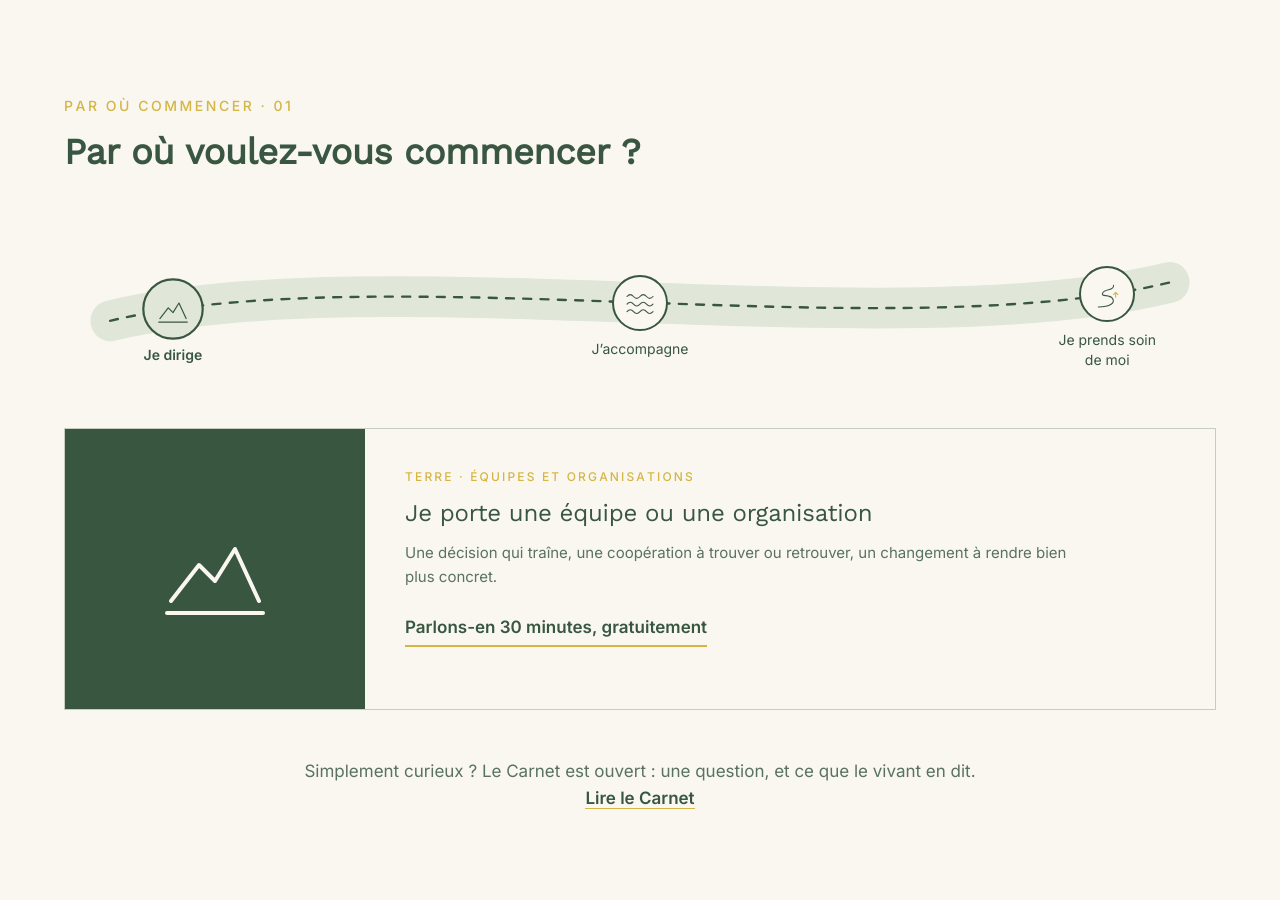
it: home three doors › starts on the earth door and switches doors via the station tabs
The width and height of the screenshot is (1280, 900).
What coordinates should you click on to do the following:
click the tab "J’accompagne"
I would click on:
 (640, 302)
Its box is [612,274,668,330].
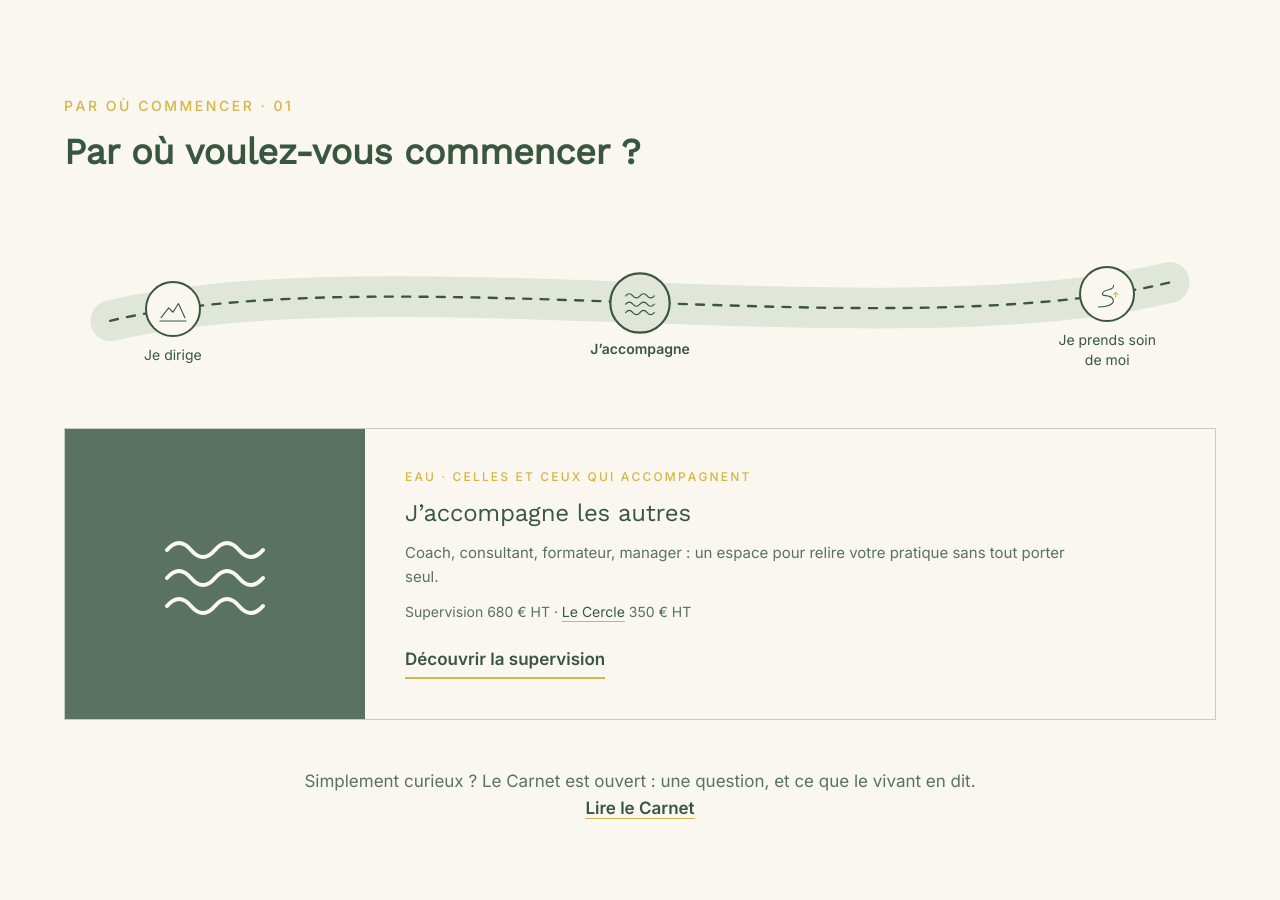
Now the tab "J’accompagne" is selected, box [612,274,668,330]
Now the link "Découvrir la supervision" has attribute href="/supervision", box [405,646,605,679]
What coordinates should you click on to do the following:
click the tab "Je prends soin de moi"
I would click on:
 (1107, 294)
Its box is [1079,266,1135,322].
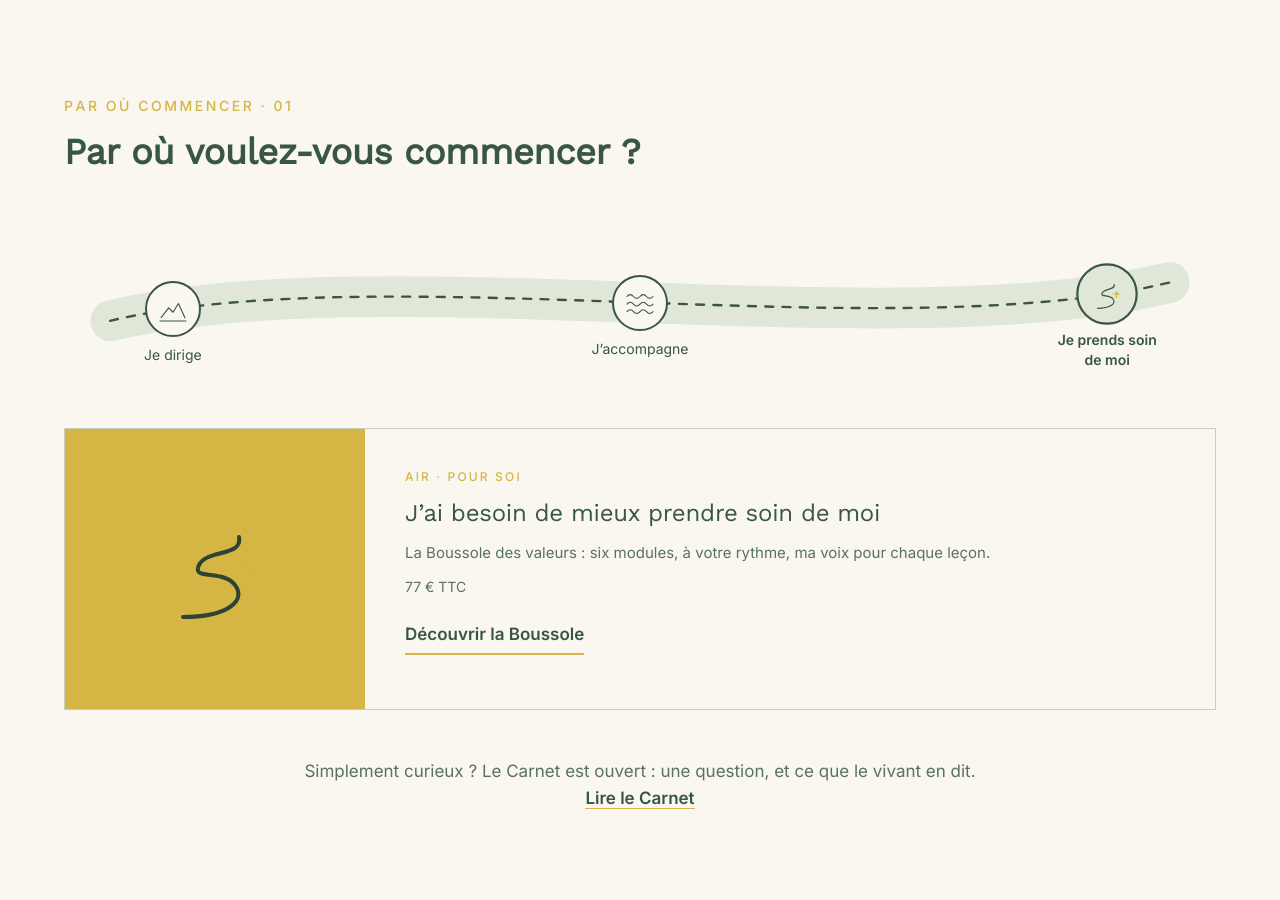
Now the text "77 € TTC" is shown, box [405,578,466,595]
